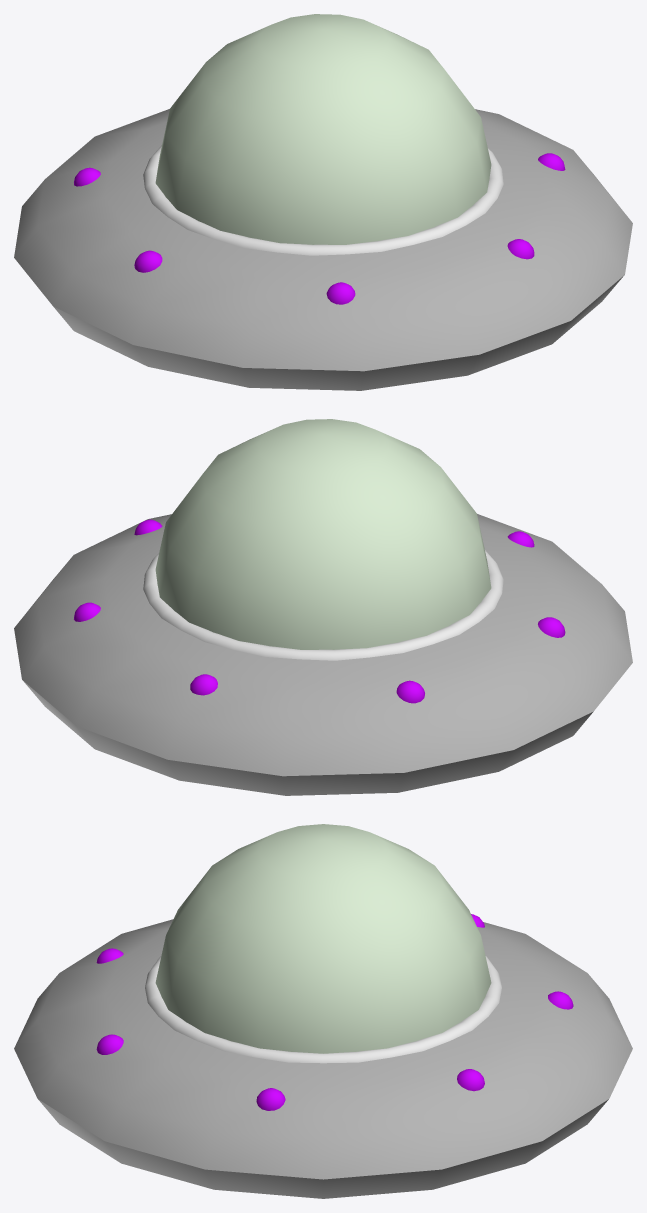
The model's file is ufo.gltf.
The picture shows the model from 3 angles, top to bottom: view 1: azimuth 30°, elevation 25°; view 2: azimuth 150°, elevation 25°; view 3: azimuth 270°, elevation 25°; orthographic projection.
Parts seen in each view (by area): view 1: fo-Mat.1, fo-Mat, fo, fo-Mat.2; view 2: fo-Mat.1, fo-Mat, fo, fo-Mat.2; view 3: fo-Mat.1, fo-Mat, fo, fo-Mat.2.
Boxes of the visible parts, x1,y1,x2,y2 form: fo-Mat.1: (14, 109, 632, 390); fo-Mat: (155, 14, 491, 244); fo: (143, 145, 503, 255); fo-Mat.2: (74, 153, 565, 304); fo-Mat.1: (14, 514, 632, 795); fo-Mat: (155, 419, 491, 649); fo: (143, 550, 503, 660); fo-Mat.2: (74, 519, 565, 703); fo-Mat.1: (14, 919, 632, 1198); fo-Mat: (155, 824, 491, 1053); fo: (145, 956, 501, 1063); fo-Mat.2: (96, 914, 573, 1110).
Size of the model in its own units: 1313 by 669 by 1313.
